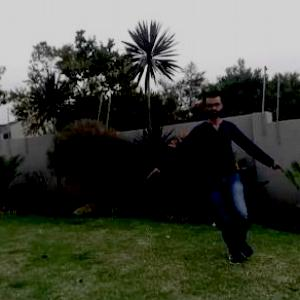land: (146, 94, 273, 250)
